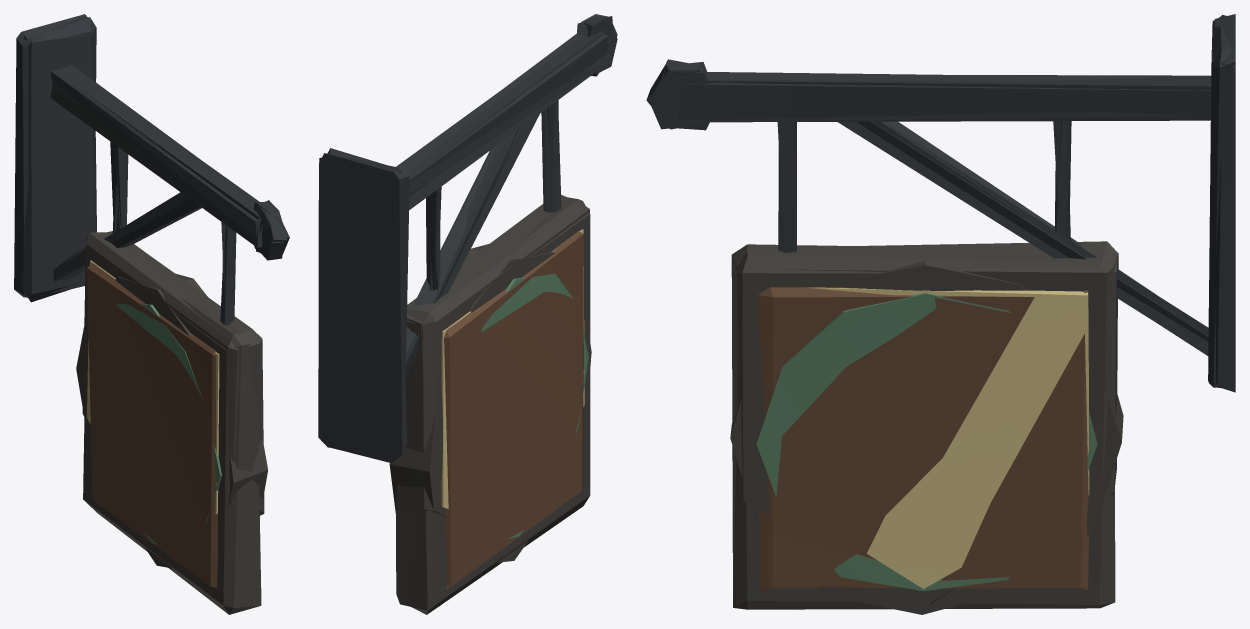
Rendered from sign.hanging.glb.
3 views of the same model, side by side, from view 1: azimuth 30°, elevation 25°; view 2: azimuth 150°, elevation 25°; view 3: azimuth 270°, elevation 25° (orthographic). The views are drawn at different scales.
Visible parts, largest first — view 1: sign.hanging.v0.mesh, sign.hanging.v1.mesh, sign.hanging.v2.mesh; view 2: sign.hanging.v0.mesh, sign.hanging.v2.mesh, sign.hanging.v1.mesh; view 3: sign.hanging.v0.mesh, sign.hanging.v2.mesh, sign.hanging.v1.mesh.
Part boxes in pixels (x1,y1,x2,y2): sign.hanging.v0.mesh: (14,16,284,614); sign.hanging.v1.mesh: (28,17,287,568); sign.hanging.v2.mesh: (21,14,289,520); sign.hanging.v0.mesh: (331,16,617,614); sign.hanging.v2.mesh: (318,16,612,516); sign.hanging.v1.mesh: (319,14,617,562); sign.hanging.v0.mesh: (651,14,1235,609); sign.hanging.v2.mesh: (648,14,1235,604); sign.hanging.v1.mesh: (646,20,1235,614).
Bounding box in the file's own units: 0.1314 × 0.74 × 0.6832.
